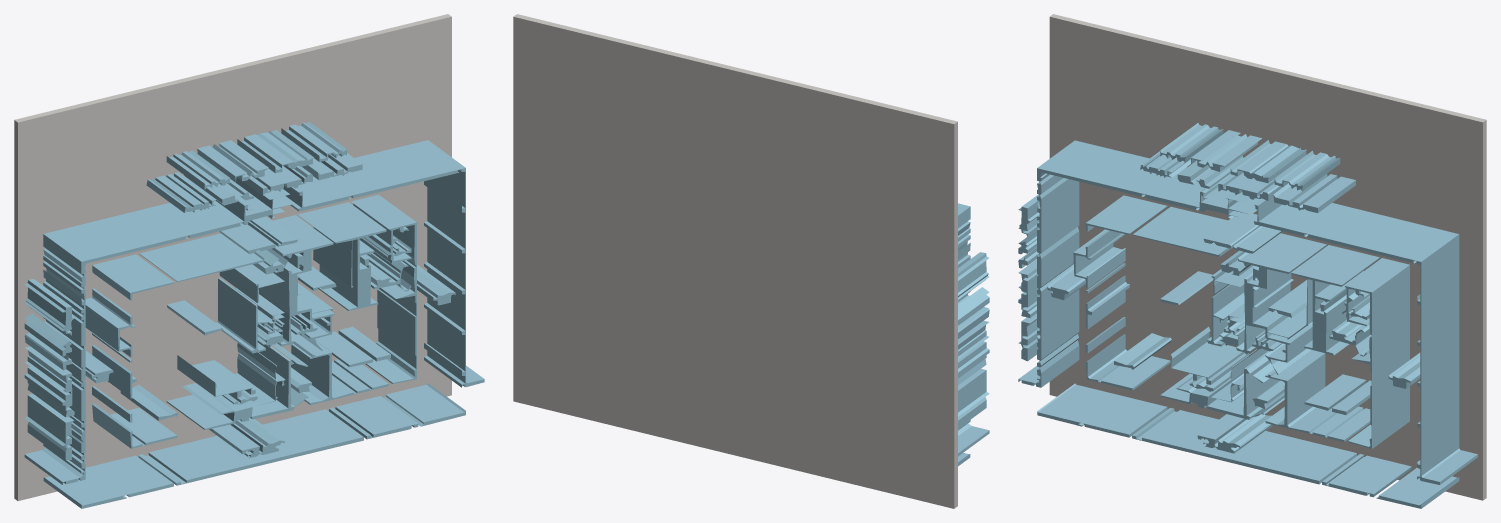
3 renders of one model, left to right at view 1: azimuth 30°, elevation 25°; view 2: azimuth 150°, elevation 25°; view 3: azimuth 330°, elevation 25°, orthographic.
Visible parts, largest first — view 1: world; view 2: world; view 3: world.
Boxes of the visible parts, <box> form: world: <box>14,14,484,508</box>; world: <box>513,14,989,508</box>; world: <box>1018,14,1486,508</box>.
Bounding box in the file's own units: 10.23 × 8.53 × 1.7.
